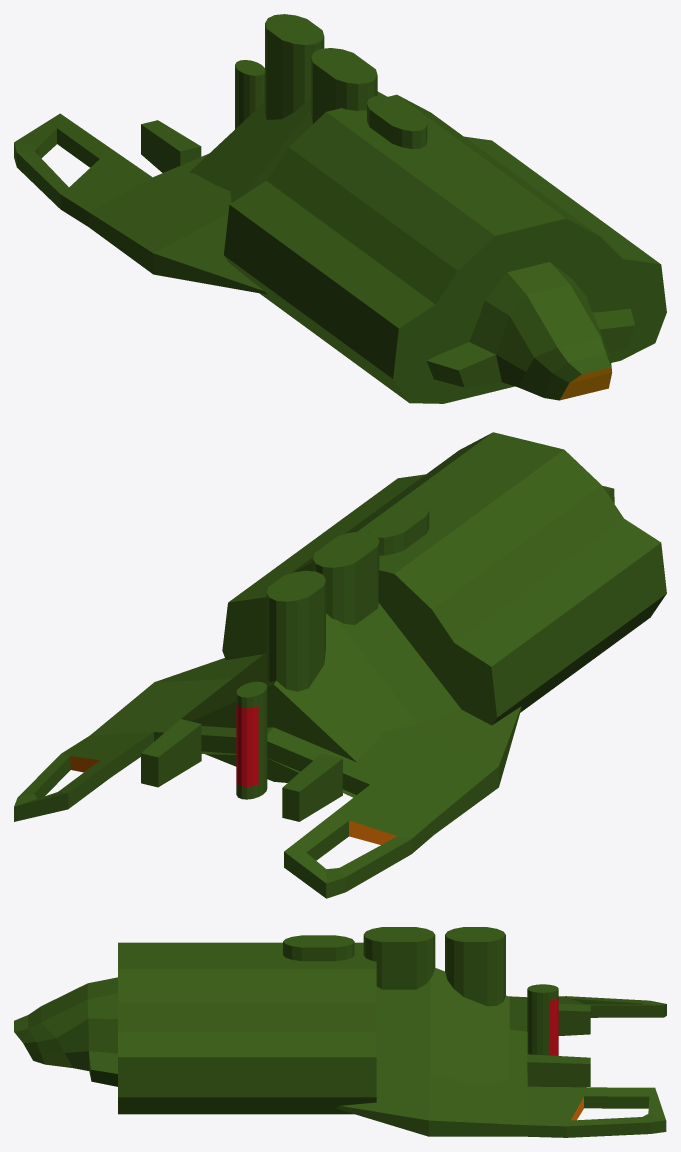
The model's file is Kling_colony_i.fbx.
The picture shows the model from 3 angles, top to bottom: view 1: azimuth 30°, elevation 25°; view 2: azimuth 150°, elevation 25°; view 3: azimuth 270°, elevation 25°; orthographic projection. The views are drawn at different scales.
Visible parts, largest first — view 1: transport; view 2: transport; view 3: transport.
Part boxes in pixels (bbox=[...]): transport: bbox=[14, 14, 666, 403]; transport: bbox=[14, 432, 666, 898]; transport: bbox=[14, 927, 666, 1137].
Bounding box in the file's own units: 137 × 68.52 × 291.
